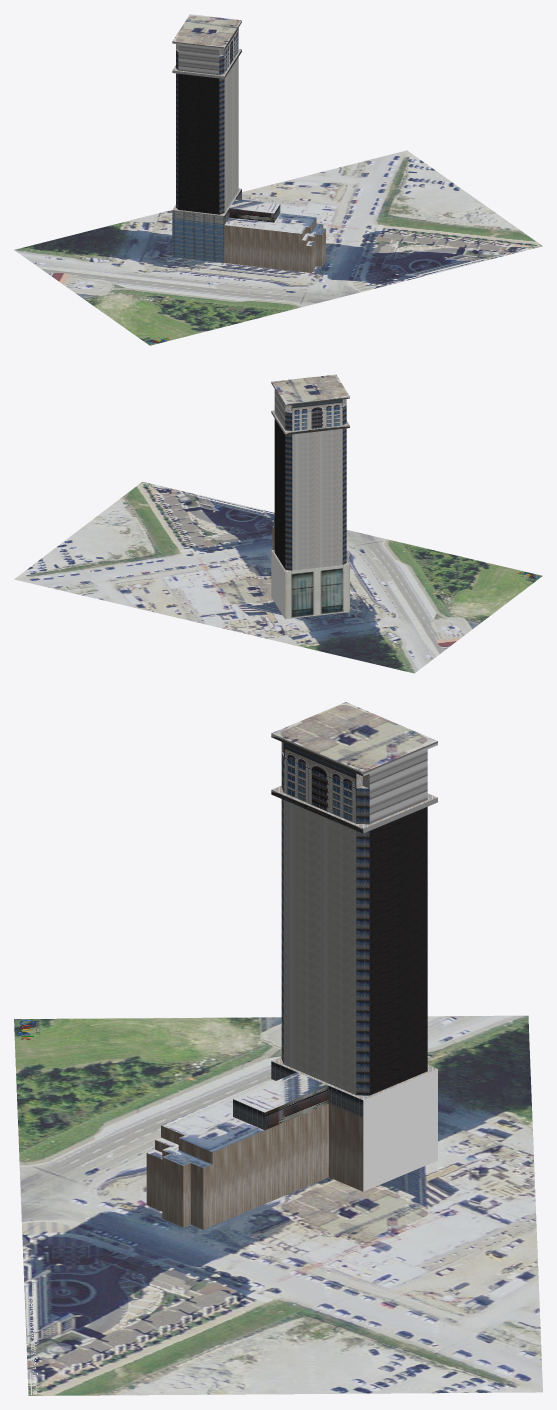
The model's file is chi.fbx.
3 renders of one model, top to bottom at view 1: azimuth 30°, elevation 25°; view 2: azimuth 150°, elevation 25°; view 3: azimuth 270°, elevation 25°, orthographic. The views are drawn at different scales.
Parts seen in each view (by area): view 1: Google_Earth_Snapshot, Model; view 2: Google_Earth_Snapshot, Model; view 3: Google_Earth_Snapshot, Model.
Part boxes in pixels (x1,y1,x2,y2): Google_Earth_Snapshot: (14,150,542,345); Model: (172,14,325,272); Google_Earth_Snapshot: (14,482,542,673); Model: (271,374,349,619); Google_Earth_Snapshot: (14,1015,542,1395); Model: (146,702,437,1229).
Size of the model in its own units: 9570 by 4920 by 5624.
